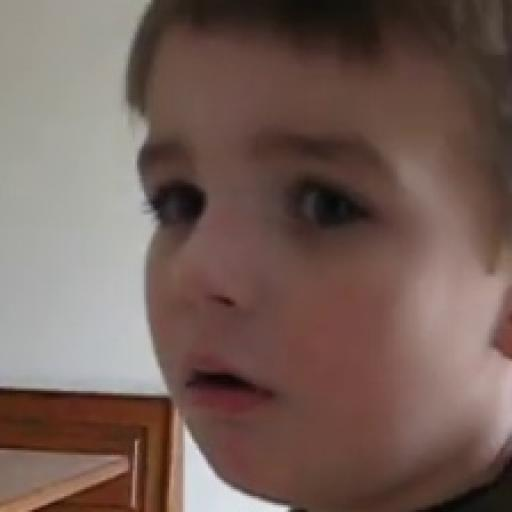Autism: (103, 8, 512, 512)
